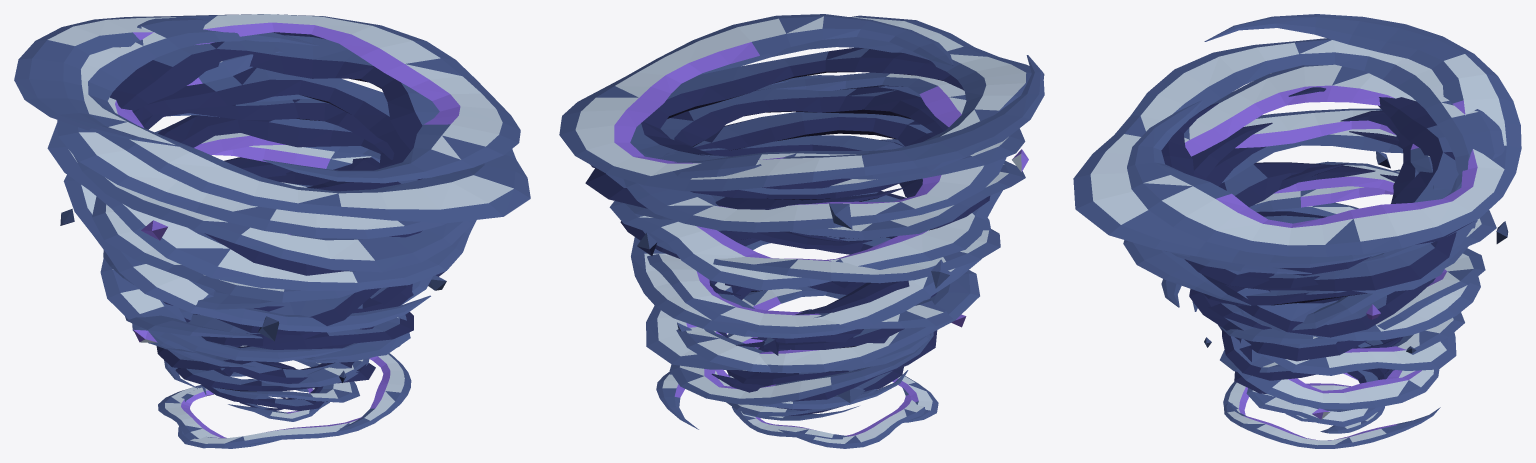
File: Hurricane.glb
The picture shows the model from 3 angles, left to right: view 1: azimuth 30°, elevation 25°; view 2: azimuth 150°, elevation 25°; view 3: azimuth 270°, elevation 25°; orthographic projection. The views are drawn at different scales.
Visible parts, largest first — view 1: Wind_Ribbon_29, Wind_Ribbon_28, Wind_Ribbon_27, Wind_Ribbon_26.001, Wind_Ribbon_22.002, Wind_Ribbon_24.001, Wind_Ribbon_18.002, Wind_Ribbon_25.001, Wind_Ribbon_20.002, Wind_Ribbon_23.001, Wind_Ribbon_21.002, Wind_Ribbon_14.003 (+18 smaller); view 2: Wind_Ribbon_29, Wind_Ribbon_28, Wind_Ribbon_24.001, Wind_Ribbon_27, Wind_Ribbon_20.002, Wind_Ribbon_25.001, Wind_Ribbon_23.001, Wind_Ribbon_12.003, Wind_Ribbon_26.001, Wind_Ribbon_16.003, Wind_Ribbon_14.003, Wind_Ribbon_08.004 (+17 smaller); view 3: Wind_Ribbon_29, Wind_Ribbon_28, Wind_Ribbon_26.001, Wind_Ribbon_19.002, Wind_Ribbon_27, Wind_Ribbon_23.001, Wind_Ribbon_22.002, Wind_Ribbon_08.004, Wind_Ribbon_18.002, Wind_Ribbon_24.001, Wind_Ribbon_12.003, Wind_Ribbon_14.003 (+13 smaller).
Part boxes in pixels (left/top/right/bottom): Wind_Ribbon_29: left=14, top=14, right=520, bottom=183; Wind_Ribbon_28: left=81, top=17, right=530, bottom=222; Wind_Ribbon_27: left=110, top=32, right=450, bottom=216; Wind_Ribbon_26.001: left=57, top=47, right=446, bottom=238; Wind_Ribbon_22.002: left=47, top=113, right=476, bottom=290; Wind_Ribbon_24.001: left=73, top=94, right=474, bottom=272; Wind_Ribbon_18.002: left=63, top=132, right=430, bottom=332; Wind_Ribbon_25.001: left=133, top=67, right=422, bottom=237; Wind_Ribbon_20.002: left=92, top=129, right=380, bottom=302; Wind_Ribbon_23.001: left=141, top=99, right=394, bottom=275; Wind_Ribbon_21.002: left=158, top=115, right=392, bottom=168; Wind_Ribbon_14.003: left=100, top=182, right=432, bottom=362; Wind_Ribbon_29: left=559, top=14, right=1044, bottom=191; Wind_Ribbon_28: left=637, top=15, right=1044, bottom=179; Wind_Ribbon_24.001: left=623, top=75, right=1006, bottom=232; Wind_Ribbon_27: left=591, top=47, right=963, bottom=189; Wind_Ribbon_20.002: left=609, top=139, right=1002, bottom=290; Wind_Ribbon_25.001: left=660, top=87, right=948, bottom=200; Wind_Ribbon_23.001: left=585, top=112, right=936, bottom=209; Wind_Ribbon_12.003: left=646, top=240, right=979, bottom=372; Wind_Ribbon_26.001: left=663, top=72, right=1025, bottom=194; Wind_Ribbon_16.003: left=631, top=218, right=991, bottom=338; Wind_Ribbon_14.003: left=647, top=254, right=952, bottom=333; Wind_Ribbon_08.004: left=669, top=288, right=933, bottom=404; Wind_Ribbon_29: left=1127, top=14, right=1521, bottom=256; Wind_Ribbon_28: left=1073, top=38, right=1504, bottom=267; Wind_Ribbon_26.001: left=1172, top=64, right=1444, bottom=273; Wind_Ribbon_19.002: left=1211, top=162, right=1435, bottom=337; Wind_Ribbon_27: left=1161, top=87, right=1473, bottom=244; Wind_Ribbon_23.001: left=1185, top=131, right=1456, bottom=291; Wind_Ribbon_22.002: left=1123, top=129, right=1477, bottom=305; Wind_Ribbon_08.004: left=1237, top=369, right=1439, bottom=409; Wind_Ribbon_18.002: left=1161, top=169, right=1475, bottom=331; Wind_Ribbon_24.001: left=1164, top=108, right=1485, bottom=263; Wind_Ribbon_12.003: left=1261, top=332, right=1456, bottom=375; Wind_Ribbon_14.003: left=1192, top=248, right=1485, bottom=344.
Size of the model in its own units: 11.35 by 8.82 by 11.73.
